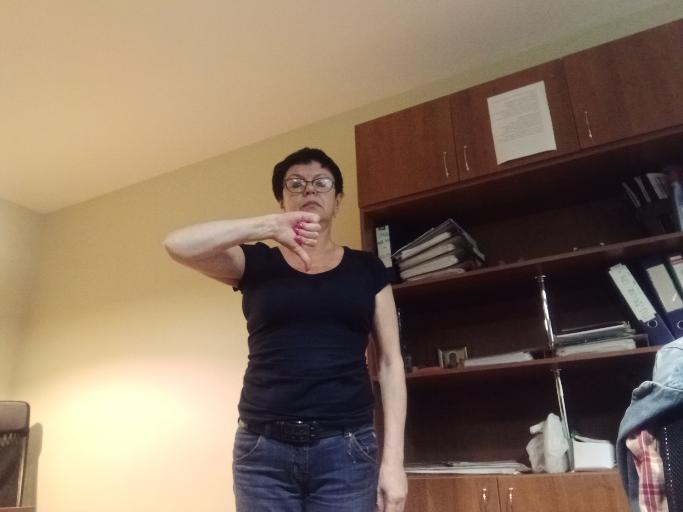dislike: (274, 208, 322, 272)
no_gesture: (374, 459, 409, 511)
